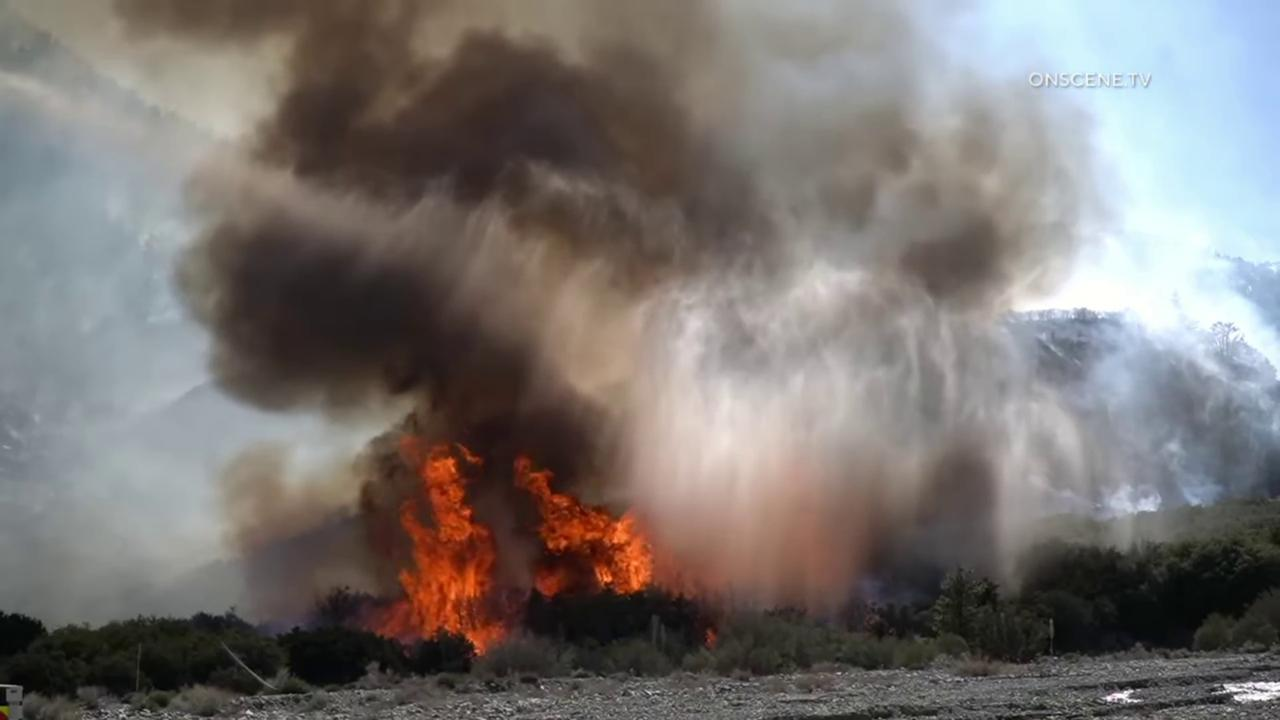fire: (359, 433, 506, 658), (513, 453, 656, 603), (704, 630, 718, 648)
smoke: (0, 0, 1280, 626)
